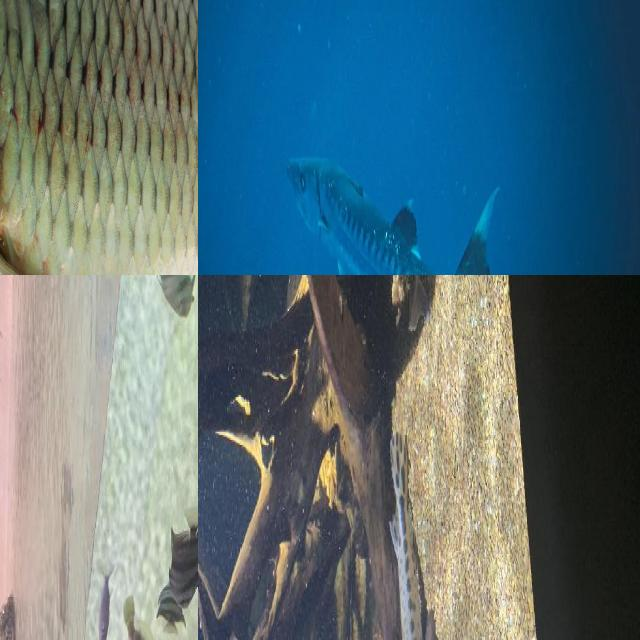fish: (198, 0, 521, 275), (0, 0, 198, 275), (385, 415, 448, 640)
